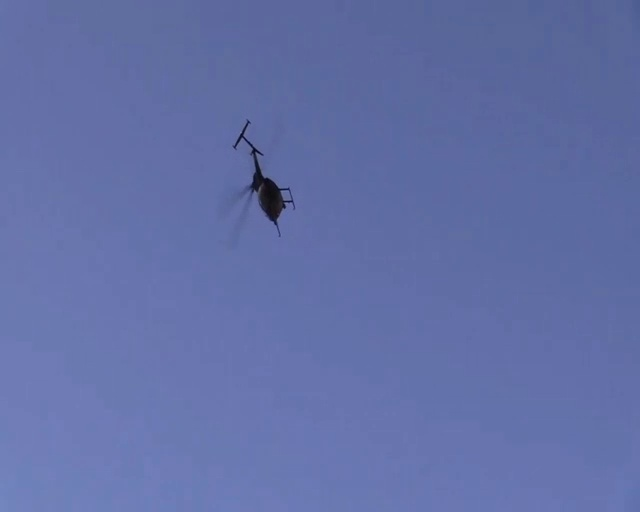HELICOPTER: (217, 118, 297, 239)
